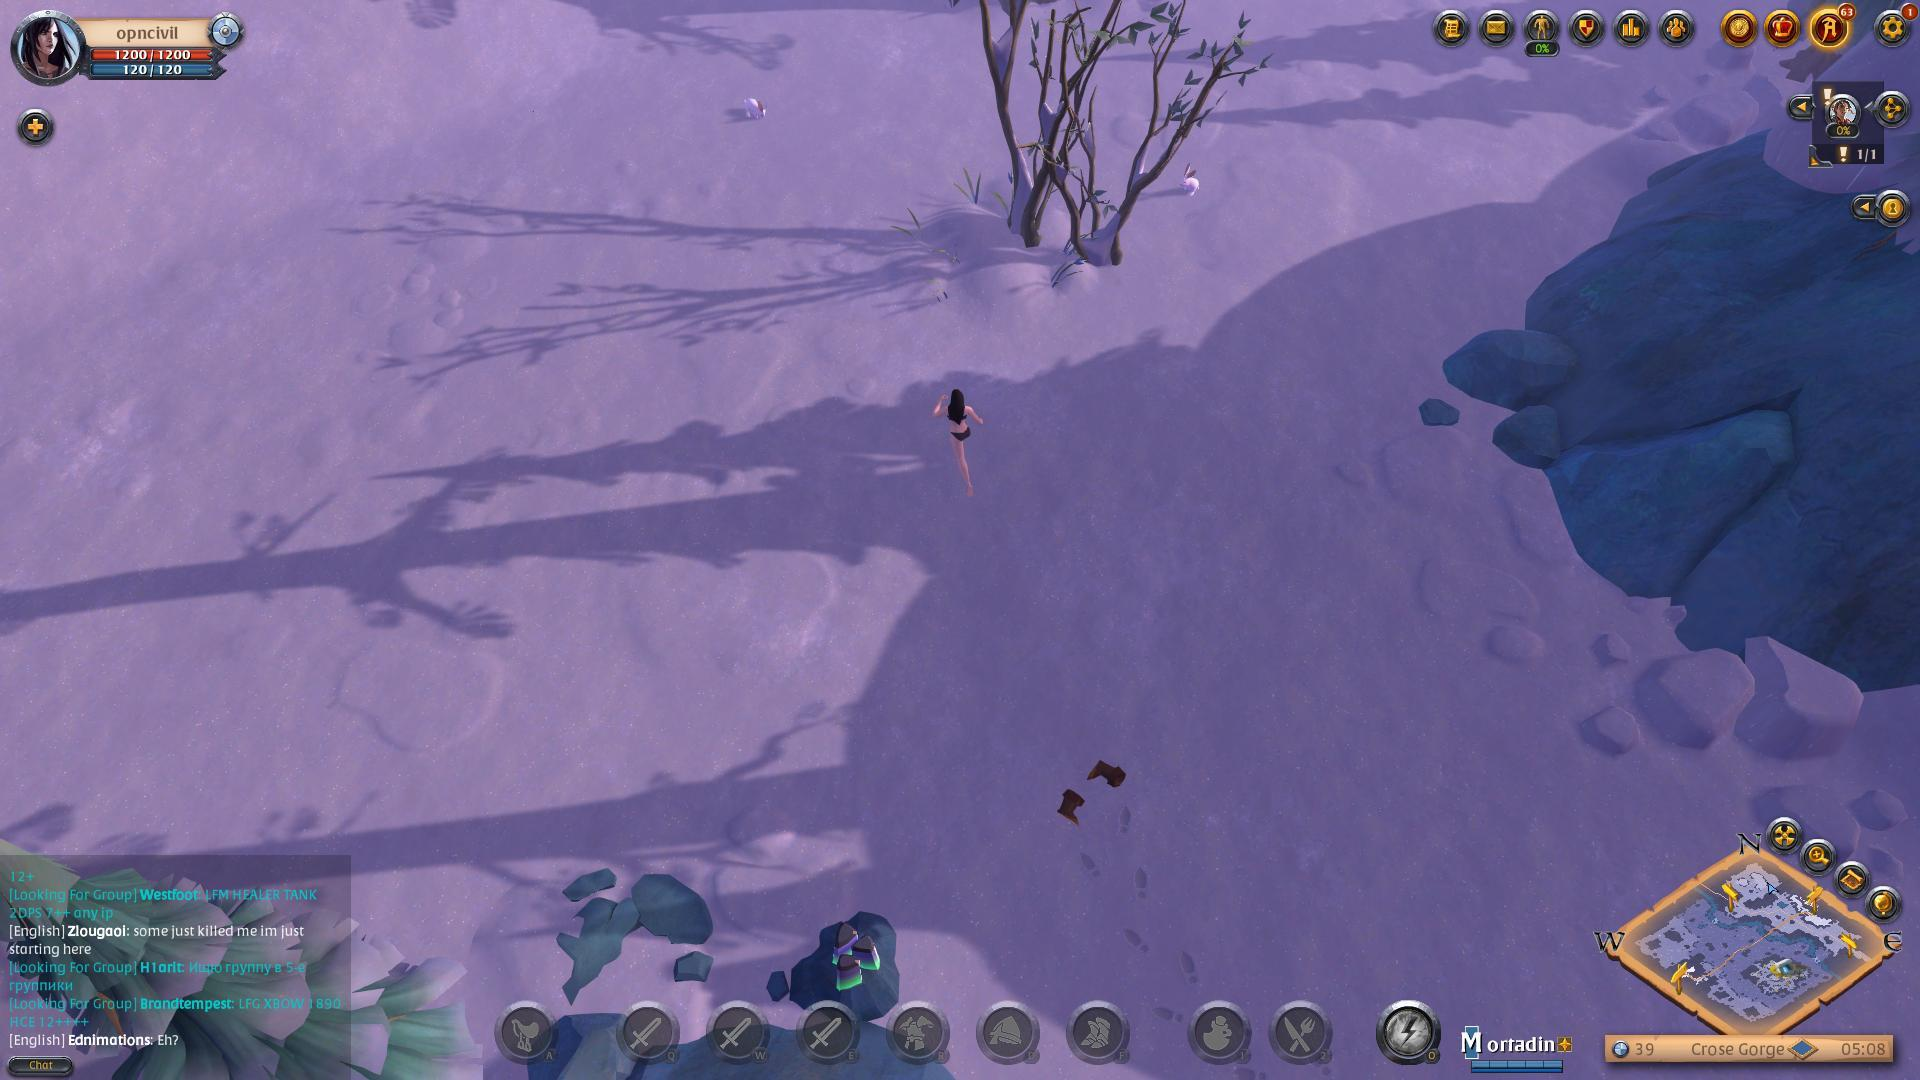tin_ore: (786, 897, 926, 1027)
